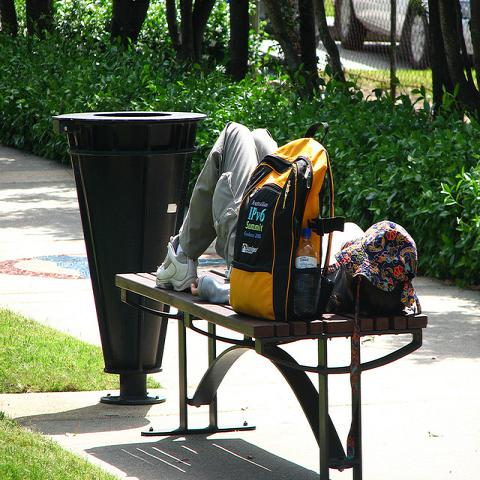car: (333, 1, 427, 68)
